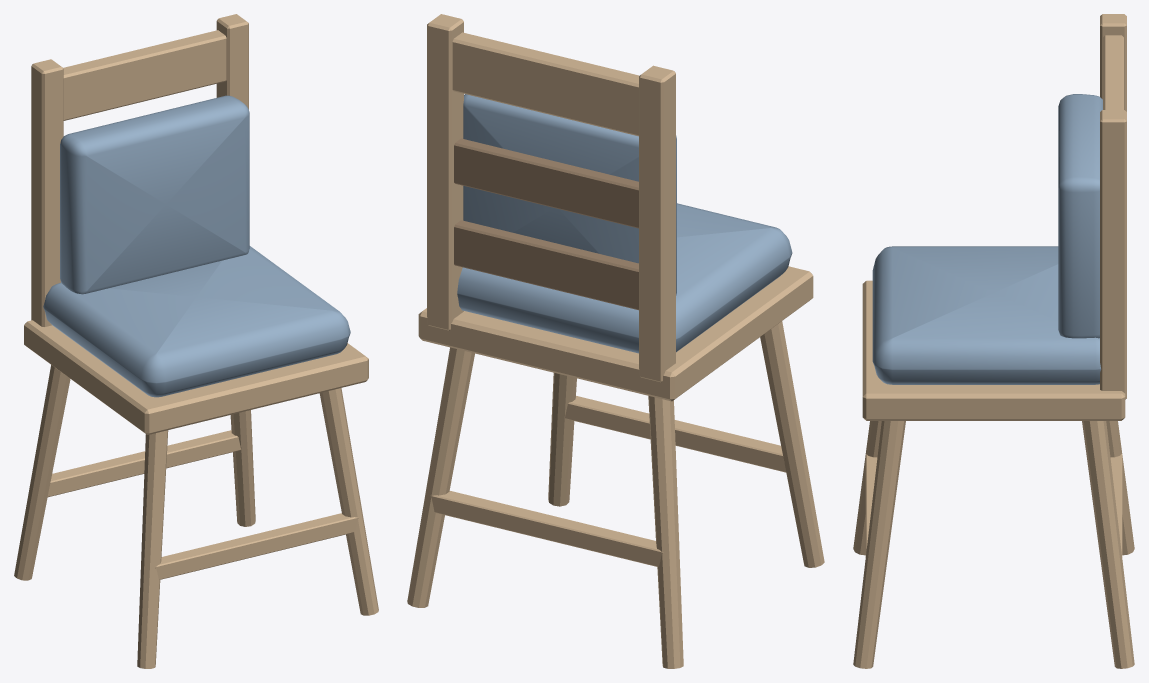
Rendered from bedroom-and-living-room-furniture-dining-chair-upholst-7ec33345.glb.
The picture shows the model from 3 angles, left to right: view 1: azimuth 30°, elevation 25°; view 2: azimuth 150°, elevation 25°; view 3: azimuth 270°, elevation 25°; orthographic projection. The views are drawn at different scales.
Visible parts, largest first — view 1: dining-chair-upholstered; view 2: dining-chair-upholstered; view 3: dining-chair-upholstered.
Boxes of the visible parts, x1,y1,x2,y2 form: dining-chair-upholstered: (14, 14, 378, 668); dining-chair-upholstered: (407, 14, 824, 668); dining-chair-upholstered: (853, 14, 1134, 668).
Size of the model in its own units: 0.4897 by 1 by 0.4713.
